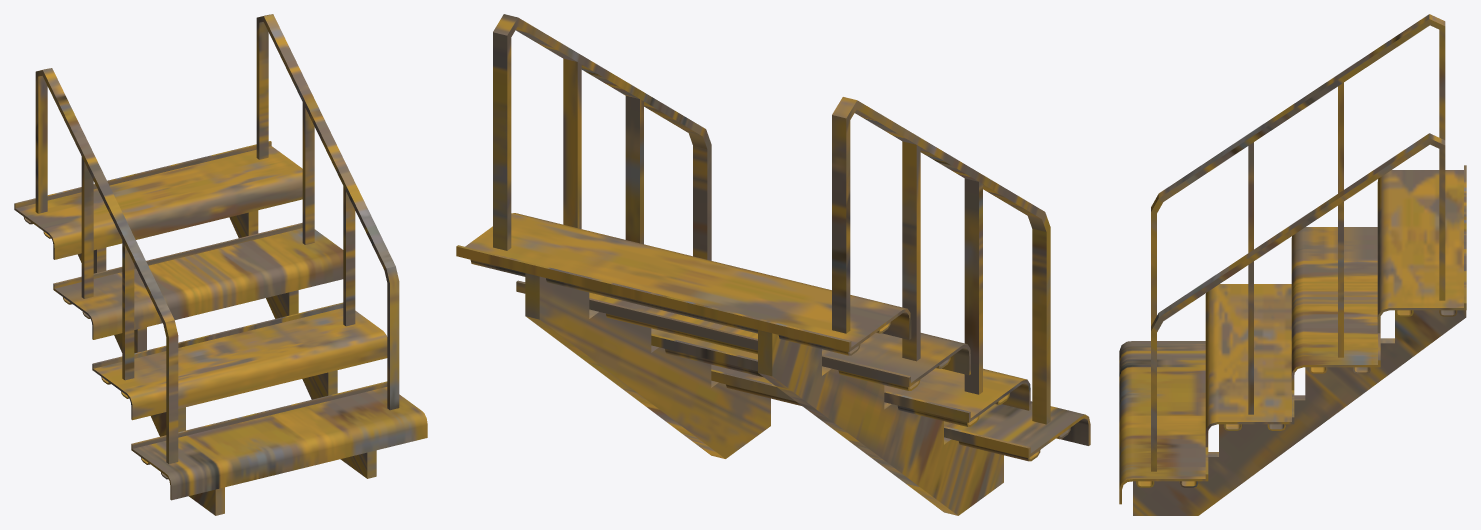
File: SM_Ladder02.gltf
3 renders of one model, left to right at view 1: azimuth 30°, elevation 25°; view 2: azimuth 150°, elevation 25°; view 3: azimuth 270°, elevation 25°, orthographic. The views are drawn at different scales.
Parts seen in each view (by area): view 1: SM_Ladder02; view 2: SM_Ladder02; view 3: SM_Ladder02.
Boxes of the visible parts, x1,y1,x2,y2 form: SM_Ladder02: (14, 14, 427, 515); SM_Ladder02: (456, 14, 1090, 515); SM_Ladder02: (1119, 14, 1466, 515).
Bounding box in the file's own units: 1.51 × 2 × 1.6.
Materials: 1 (1 with a texture image).
